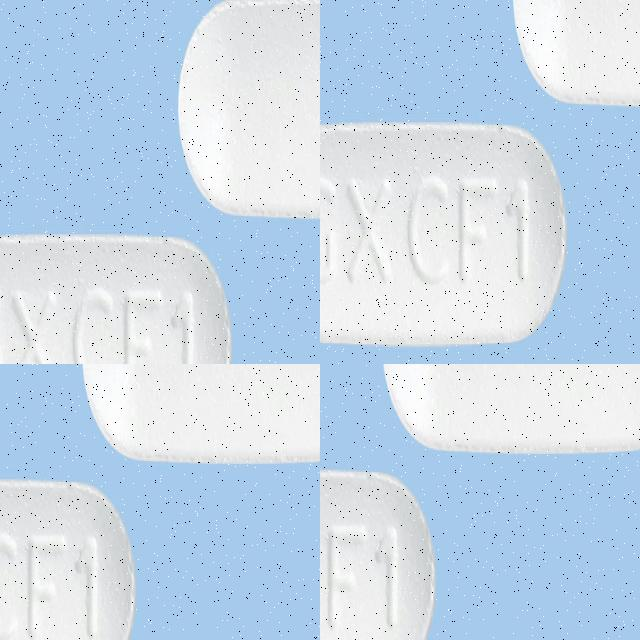Famvir: (0, 503, 252, 640)
Propocin Tab: (384, 132, 603, 364)
Sporanox Cap: (0, 273, 281, 364)
Vancozin Cap: (380, 364, 640, 458), (320, 465, 434, 640)
